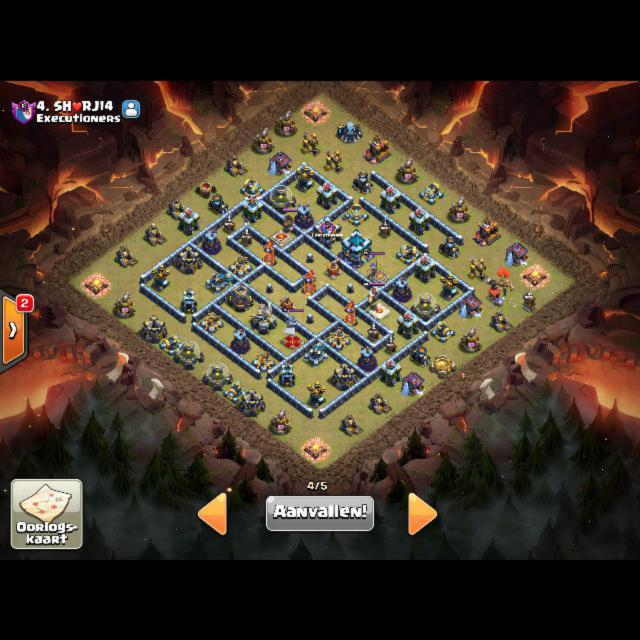AD: (295, 164, 315, 192), (307, 380, 326, 409), (151, 263, 170, 292), (440, 272, 459, 300)
AirSweeper: (324, 257, 342, 280), (277, 295, 295, 314)
BombTower: (278, 361, 294, 387), (180, 287, 196, 313)
Canon: (223, 381, 248, 404), (344, 203, 369, 226), (430, 320, 455, 342), (159, 333, 184, 355), (419, 181, 444, 203), (240, 178, 265, 199), (396, 244, 421, 265)
ClanCastle: (313, 215, 341, 248)
Eagle: (250, 300, 277, 334)
Inferno: (262, 240, 277, 265), (302, 270, 317, 295), (343, 301, 358, 326)
KingPad: (270, 229, 292, 245)
Mortar: (351, 171, 373, 194), (439, 236, 460, 259), (409, 346, 431, 367), (208, 193, 229, 215)
QueenPad: (282, 333, 305, 350)
RcPad: (370, 269, 388, 283)
Scattershot: (304, 341, 327, 367), (206, 271, 233, 293)
TH13: (340, 228, 372, 267)
WardenPad: (369, 303, 389, 318)
WizzTower: (392, 275, 411, 301), (231, 327, 249, 353), (358, 345, 376, 371), (294, 202, 312, 228), (202, 229, 220, 254)
Xbow: (326, 326, 351, 351), (228, 254, 253, 277), (199, 311, 224, 333), (251, 350, 276, 372)
